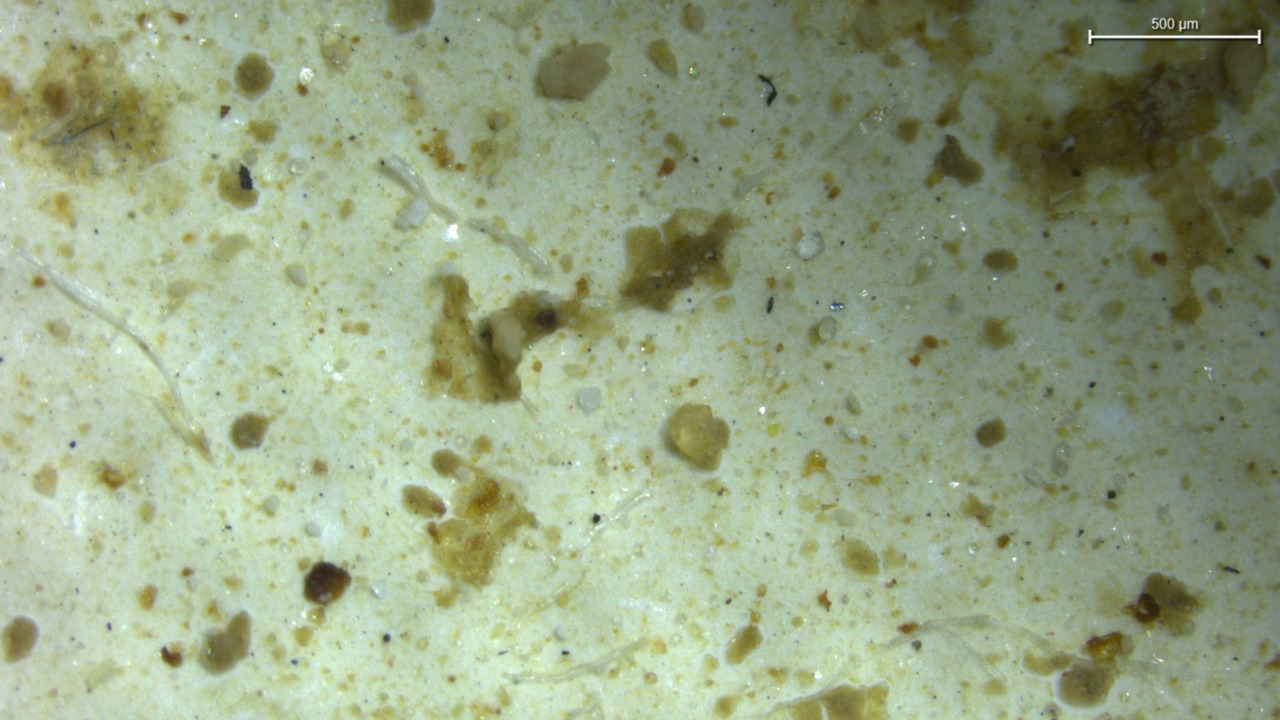microplastic_fragment: (666, 403, 729, 470), (396, 198, 430, 229), (796, 231, 825, 259), (577, 388, 601, 412)
